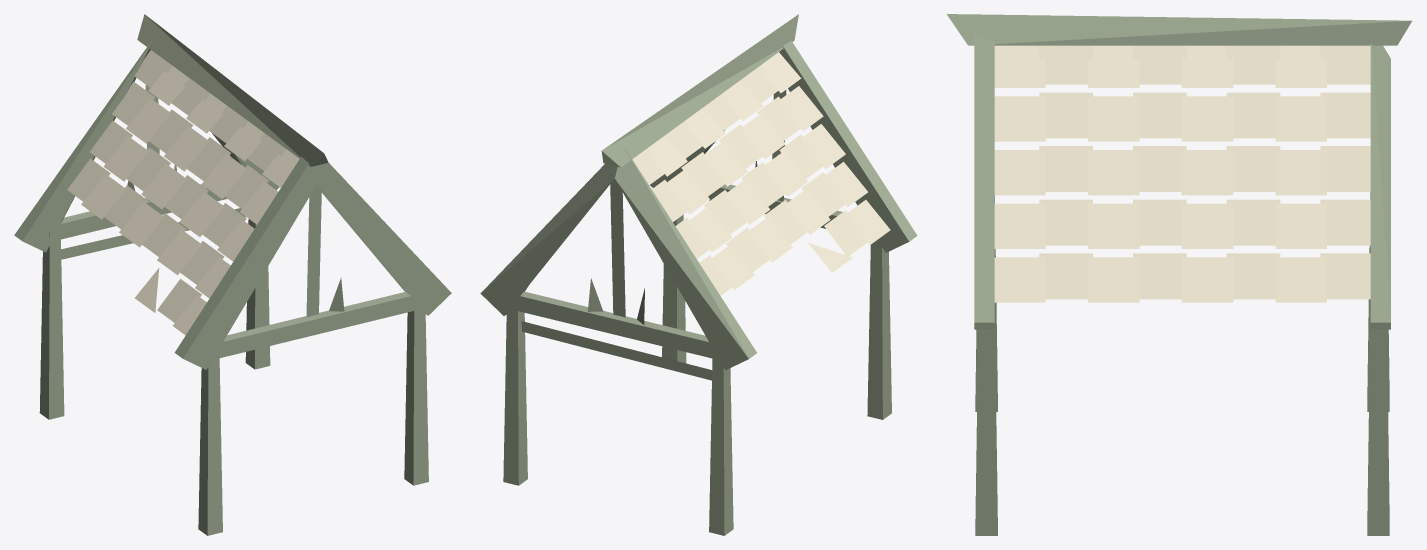
The model's file is gazebo-BrXtJ3Yg.glb.
3 renders of one model, left to right at view 1: azimuth 30°, elevation 25°; view 2: azimuth 150°, elevation 25°; view 3: azimuth 270°, elevation 25°, orthographic. The views are drawn at different scales.
Visible parts, largest first — view 1: Gazebo; view 2: Gazebo; view 3: Gazebo.
Boxes of the visible parts, left/top/right/bottom form: Gazebo: left=14, top=14, right=451, bottom=535; Gazebo: left=480, top=14, right=917, bottom=535; Gazebo: left=946, top=14, right=1411, bottom=535.
Size of the model in its own units: 1.54 by 2 by 1.87.
